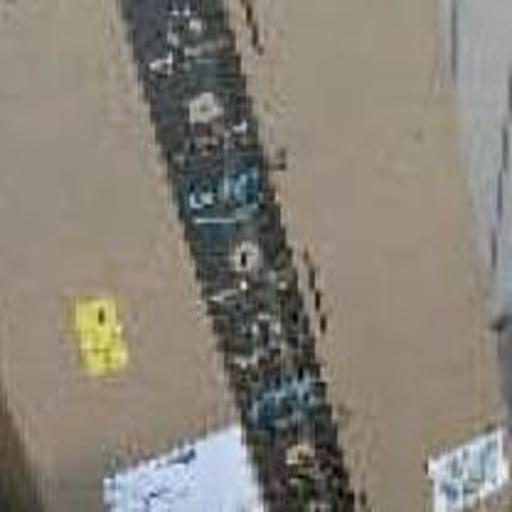Amazon: (0, 14, 511, 511)
